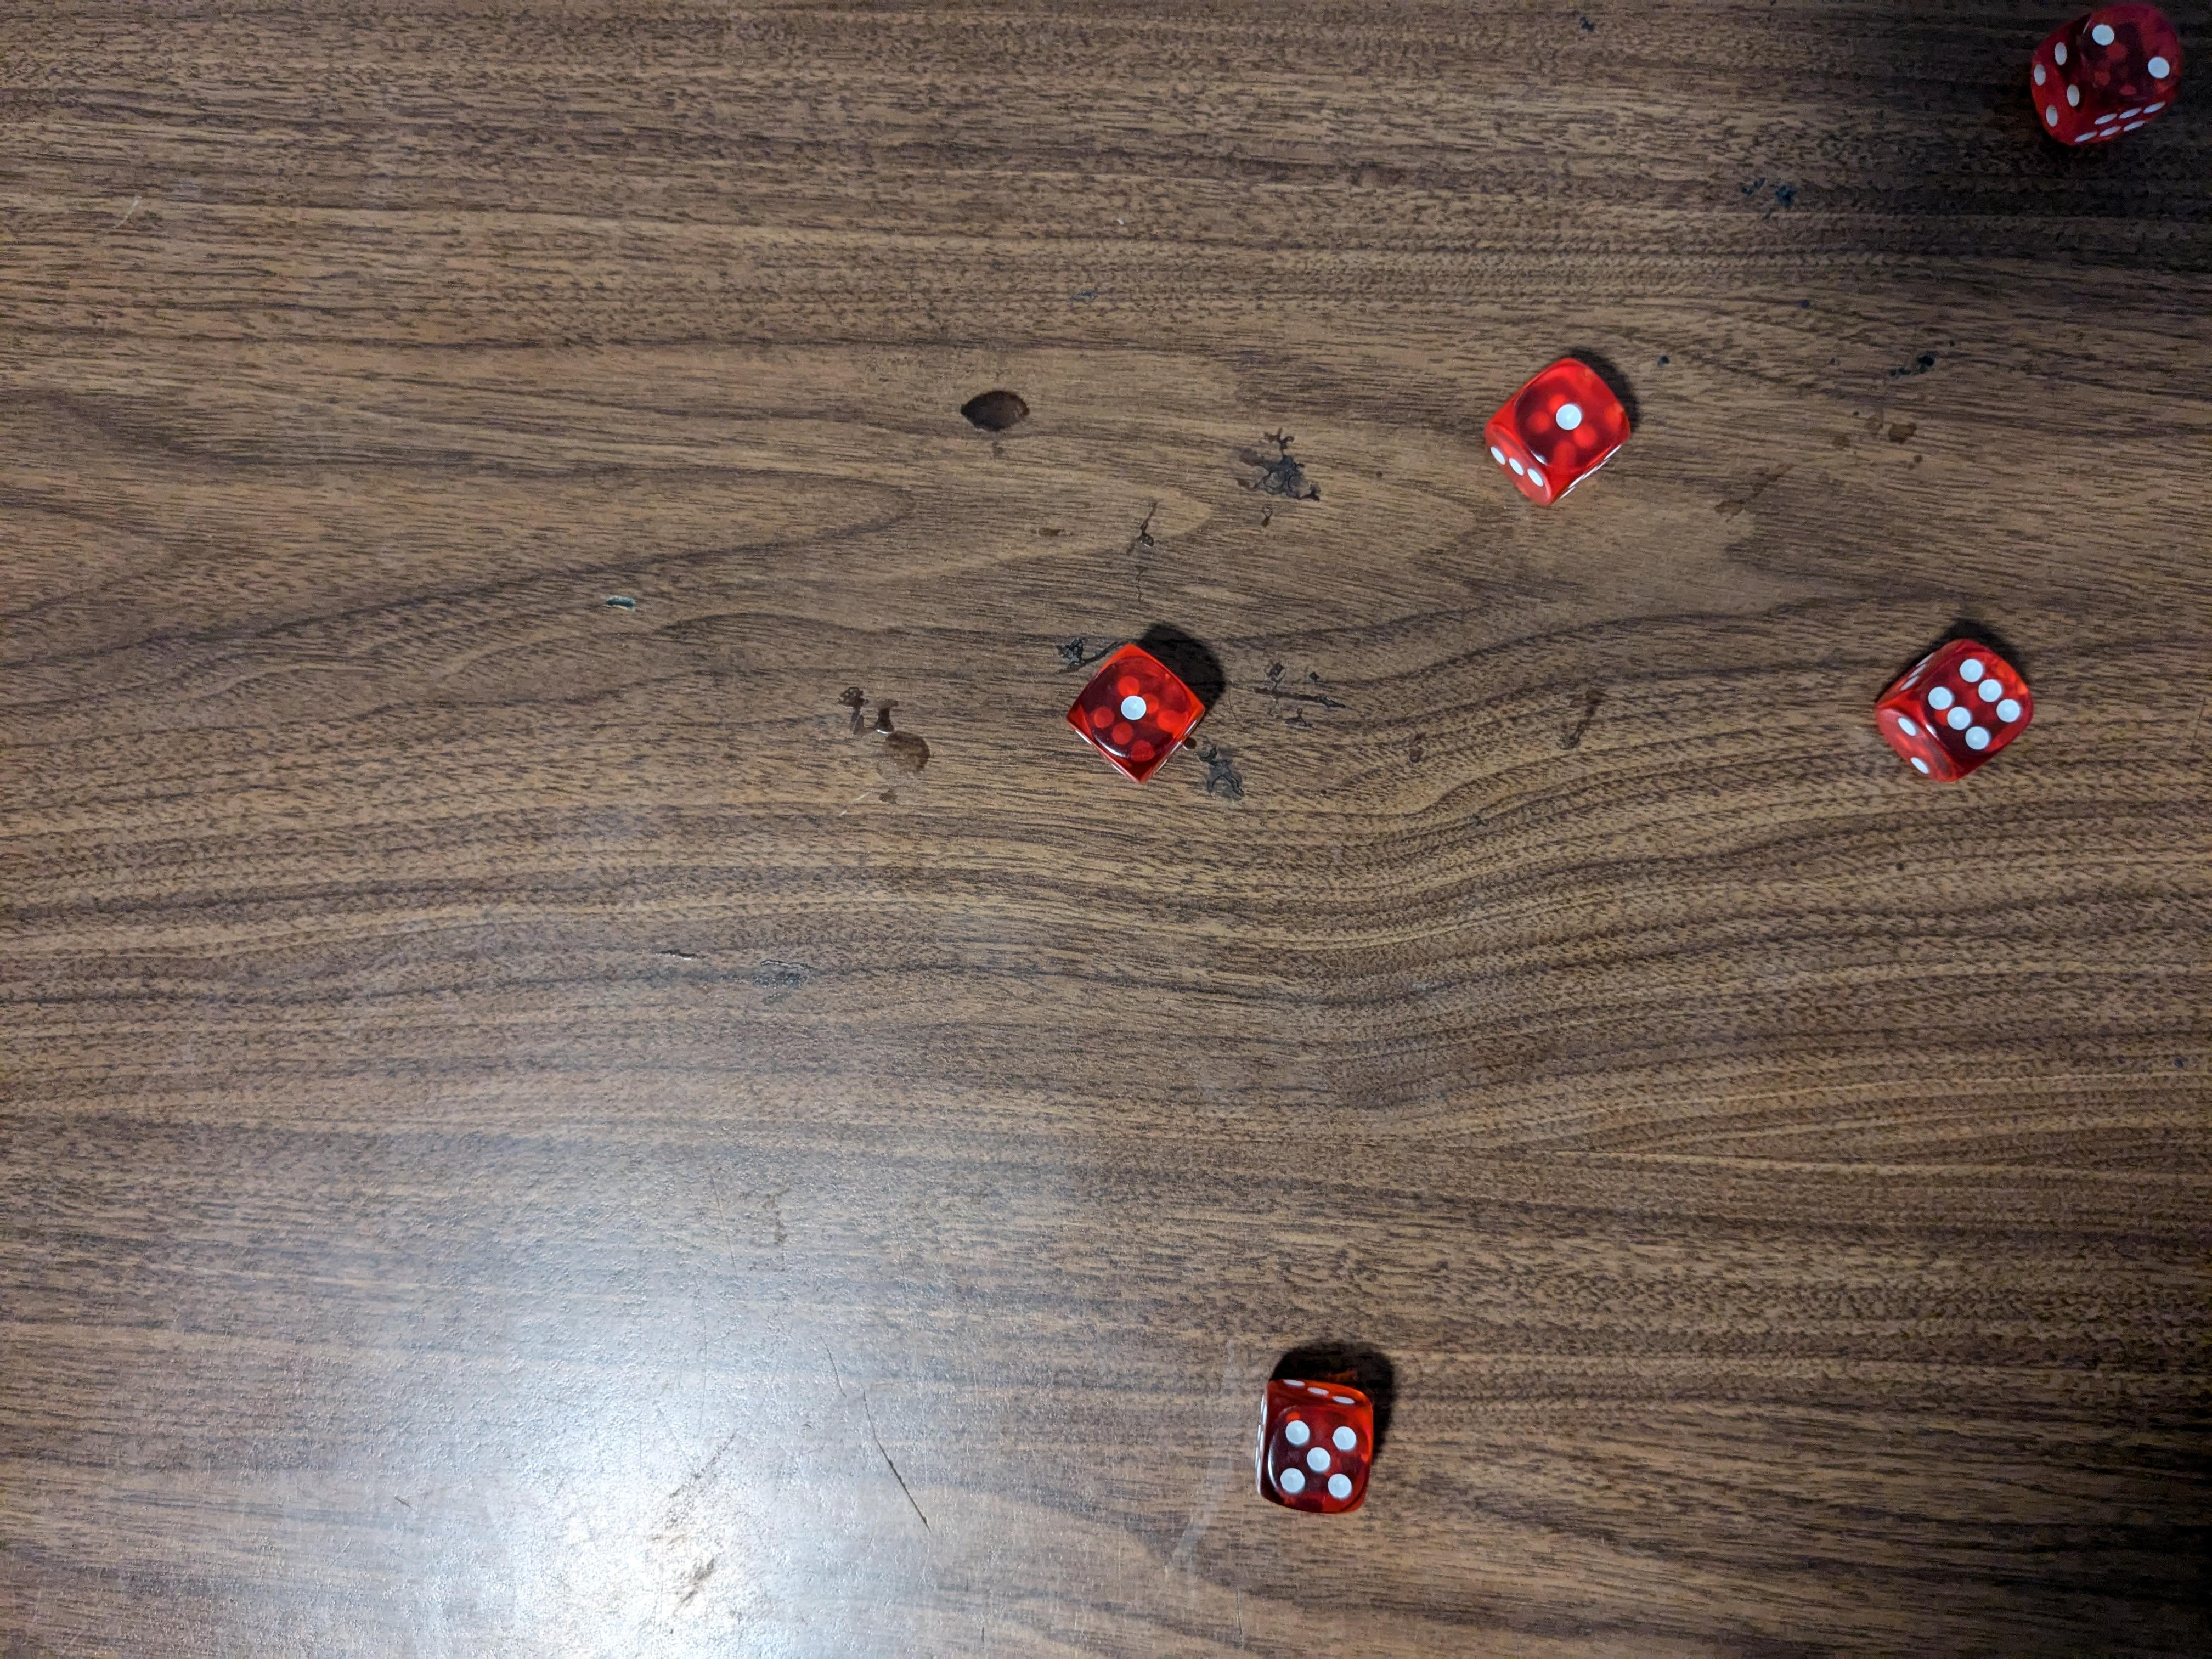five: (1258, 1377, 1378, 1516)
one: (1479, 356, 1635, 516), (1075, 645, 1204, 791)
six: (1871, 636, 2038, 784)
two: (2027, 0, 2191, 141)
